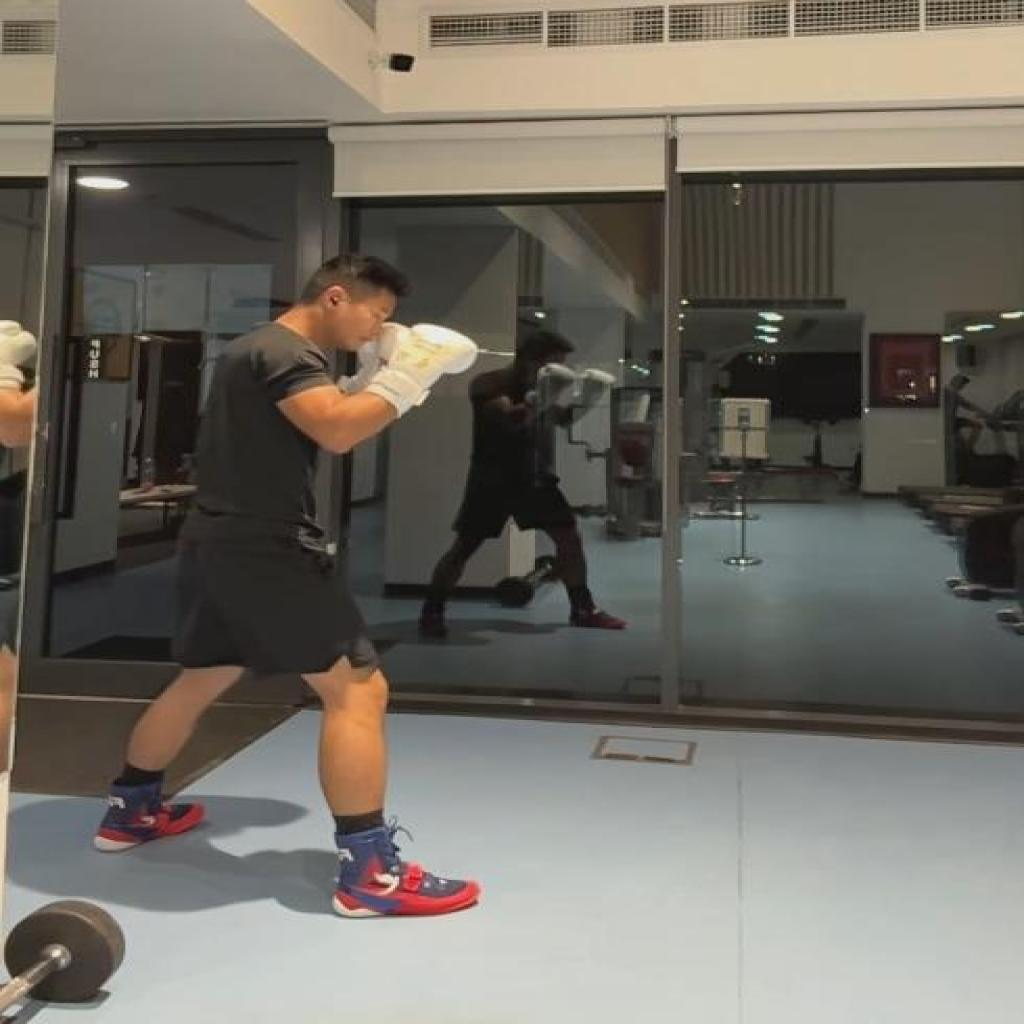no punch: (90, 254, 485, 924)
